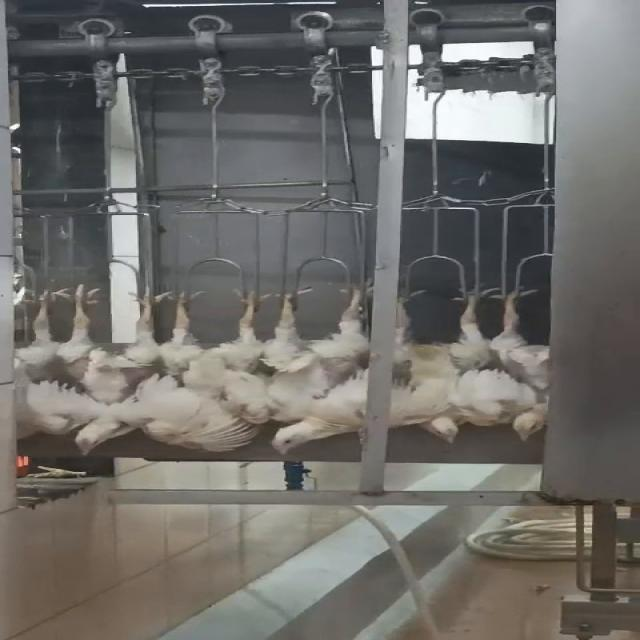chicken: (144, 280, 275, 458), (251, 279, 368, 458), (68, 279, 176, 456), (386, 274, 493, 446), (5, 280, 87, 444), (487, 268, 560, 440)
